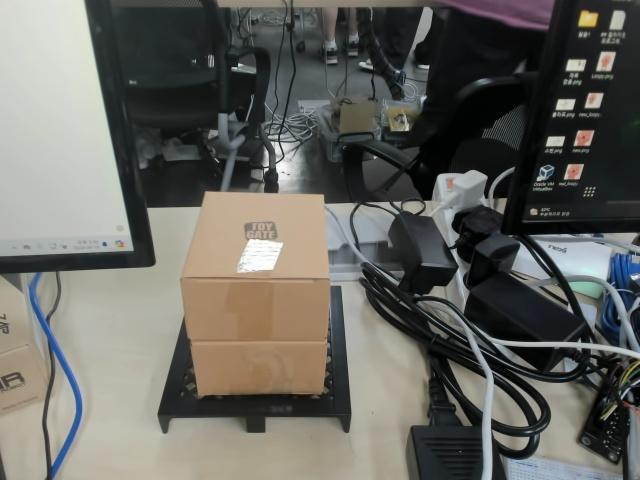box: (158, 191, 355, 435)
